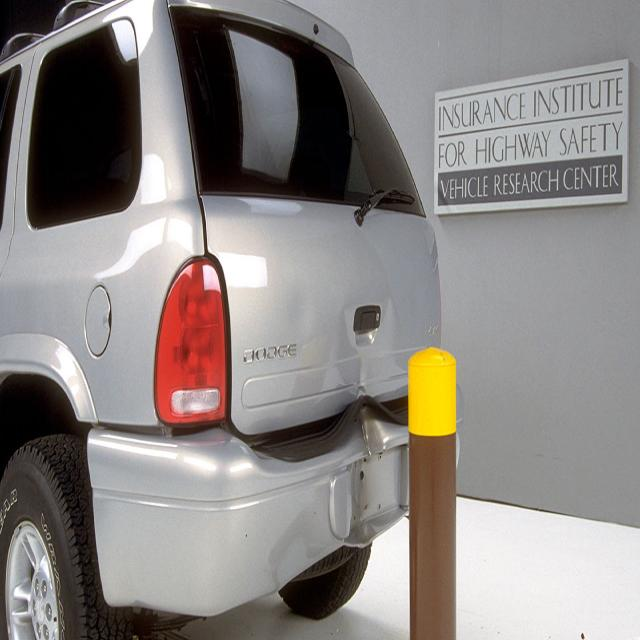dent: (266, 261, 405, 594)
misalignment: (99, 398, 409, 449)
